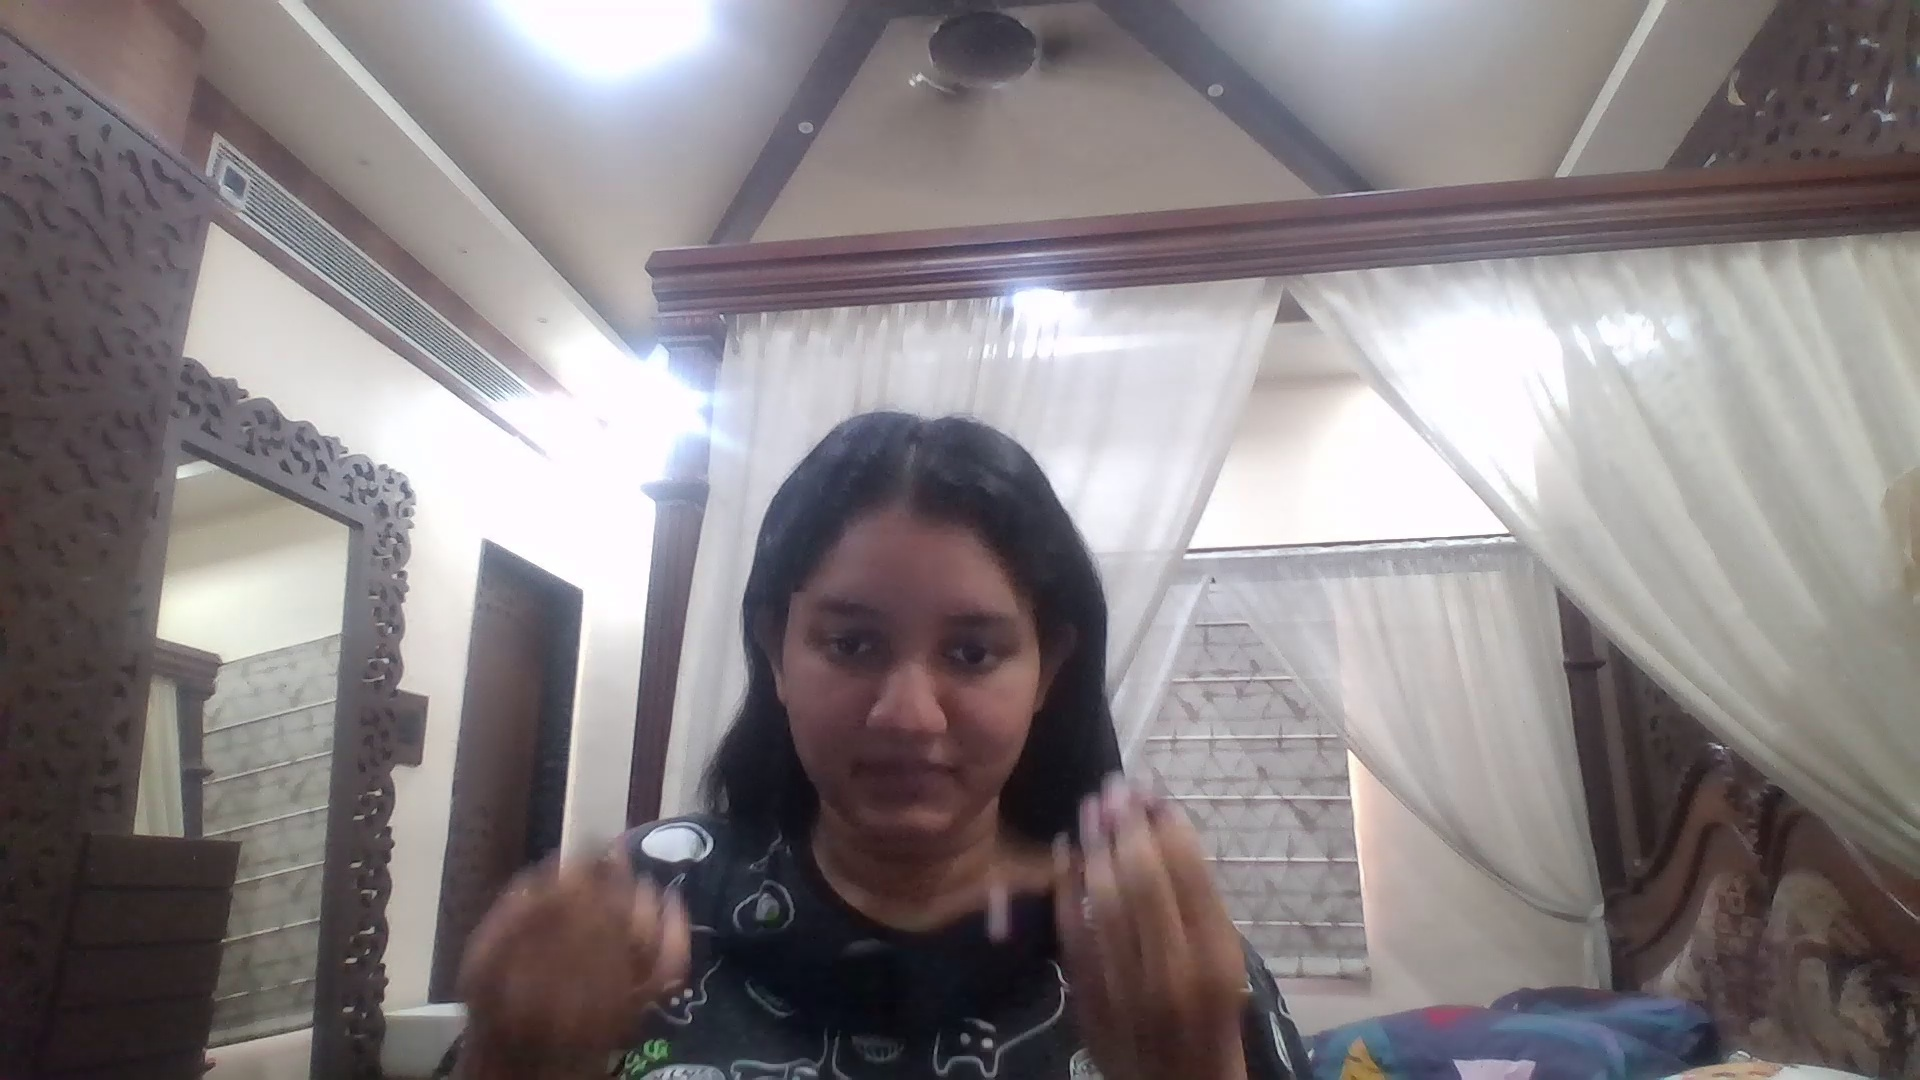No Mask: (792, 683, 1023, 845)
